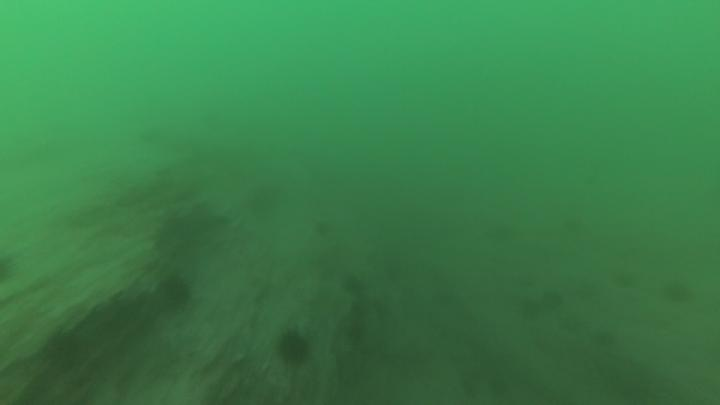echinus: (41, 329, 85, 378), (152, 272, 193, 319), (275, 326, 315, 372), (658, 278, 690, 306), (517, 297, 545, 327), (537, 287, 566, 313), (591, 326, 618, 351)
